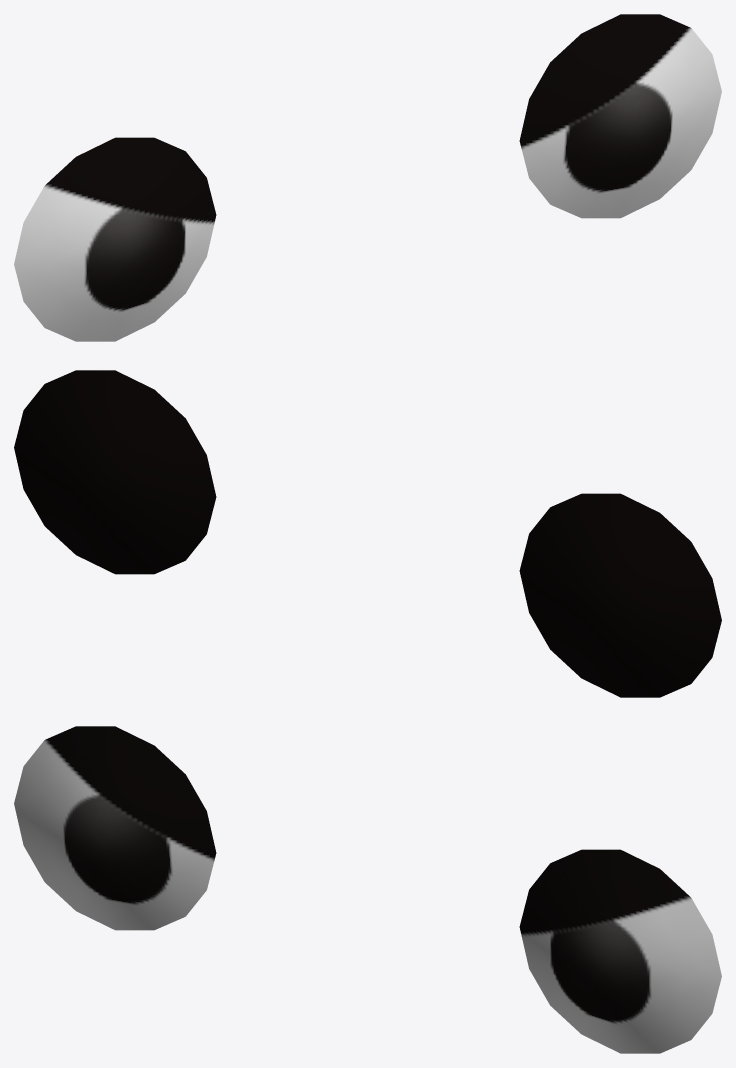
The model's file is mod_skull_a_return.fbx.
3 views of the same model, one above another, from view 1: azimuth 30°, elevation 25°; view 2: azimuth 150°, elevation 25°; view 3: azimuth 330°, elevation 25° (orthographic).
Visible parts, largest first — view 1: pPlane1; view 2: pPlane1; view 3: pPlane1.
Boxes of the visible parts, x1,y1,x2,y2 form: pPlane1: [14, 14, 721, 341]; pPlane1: [14, 370, 721, 697]; pPlane1: [14, 726, 721, 1053].
Size of the model in its own units: 1.12 by 0.3089 by 0.0835.
